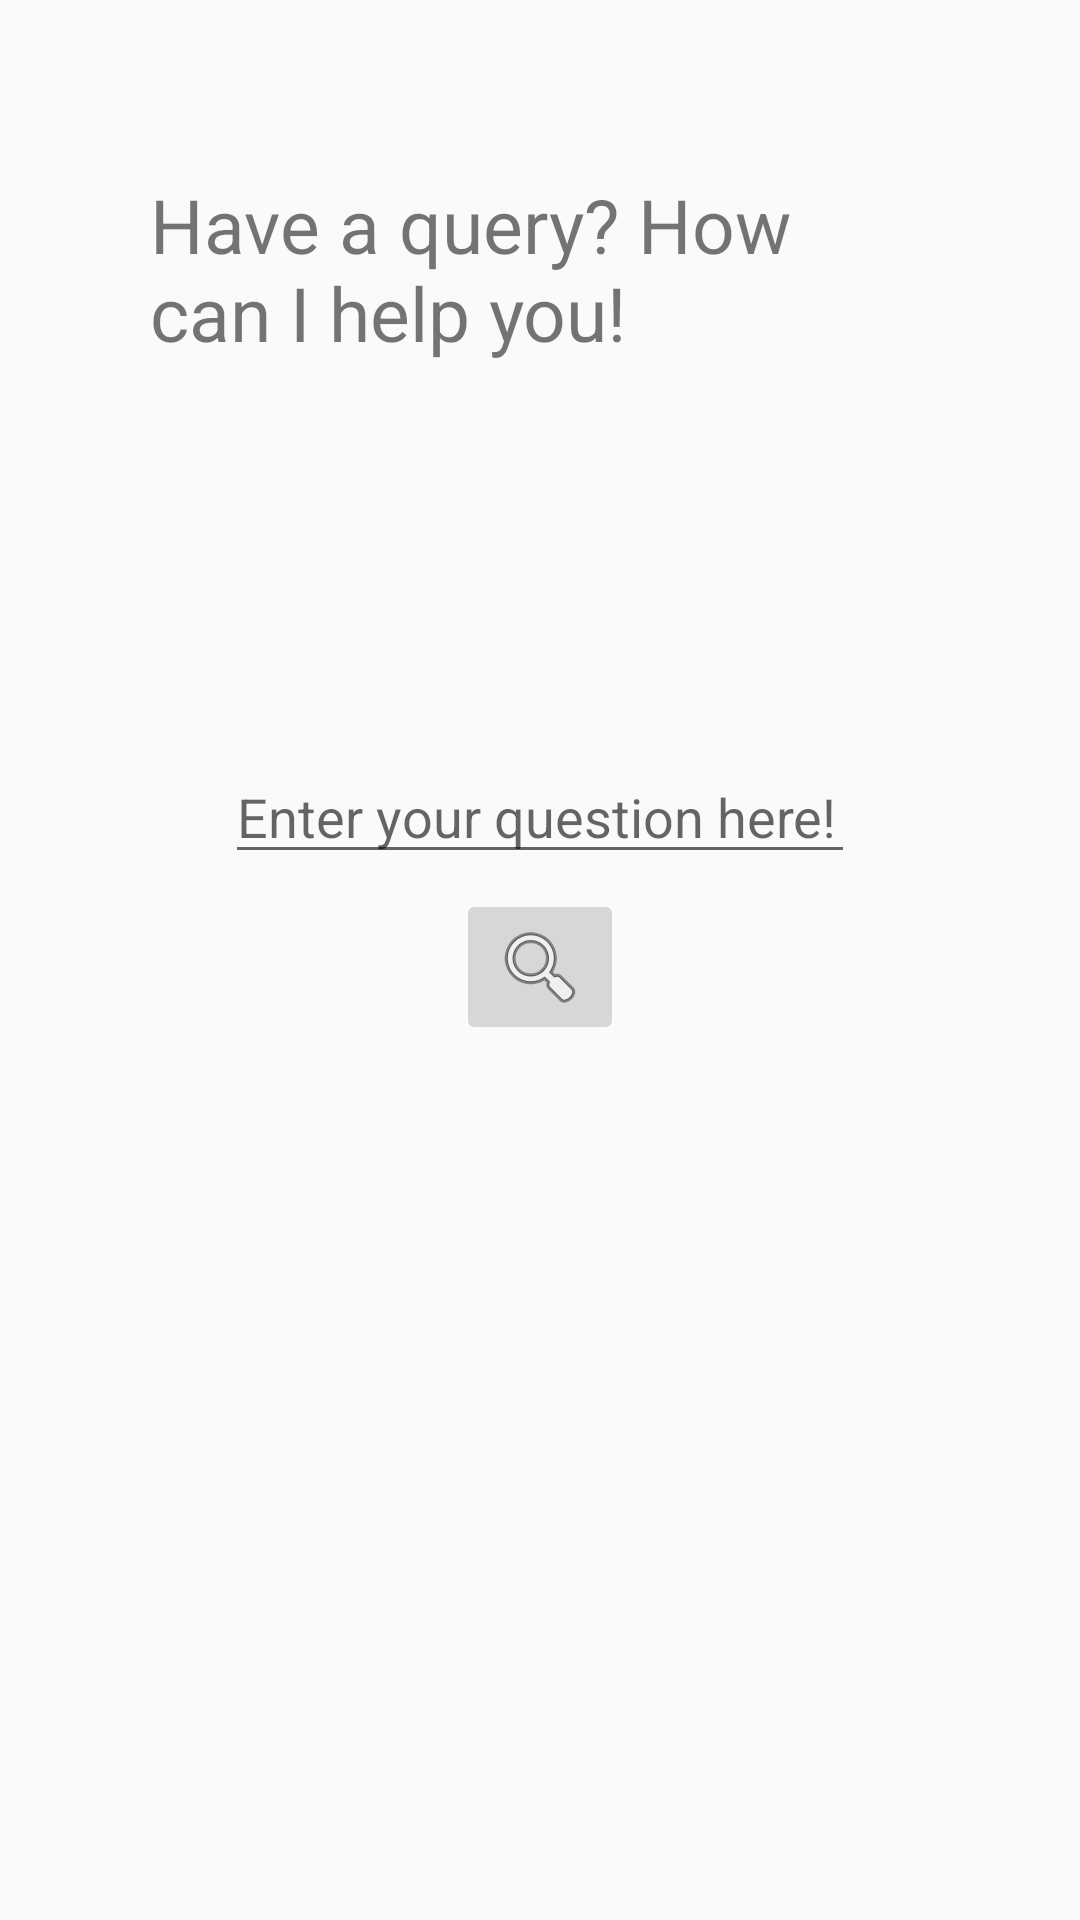

Icon bounding boxes for this 1080w x 1920h phone screenshot, format box(x1, y1, x2, y2):
search: box(468, 907, 612, 1027)
